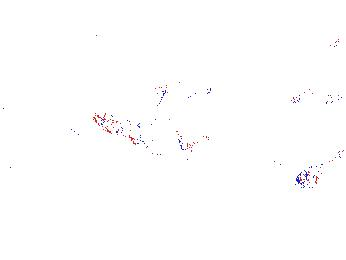X-ray fish: (293, 162, 344, 190), (286, 138, 321, 168), (283, 39, 318, 60)
glassfish: (196, 126, 293, 189), (5, 93, 62, 137)
red belly glassfish: (321, 35, 343, 47)
redtail glassfish: (94, 112, 205, 167), (143, 73, 212, 104), (285, 84, 346, 108)
